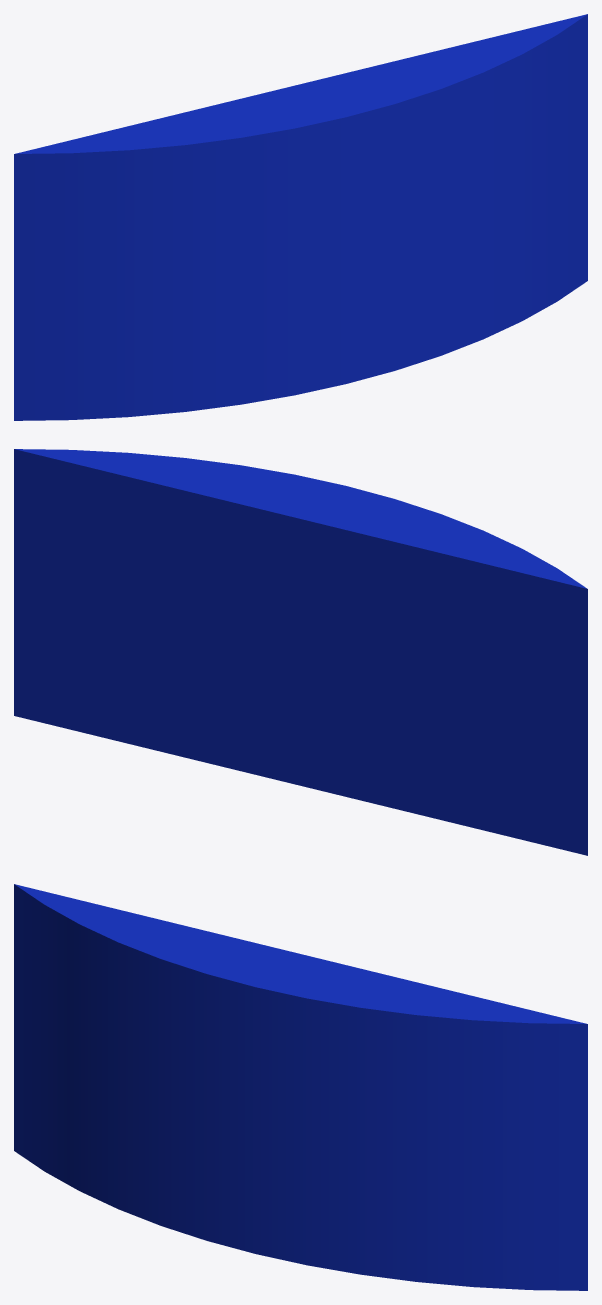
The model's file is front_cover.min.dae.
The picture shows the model from 3 angles, top to bottom: view 1: azimuth 30°, elevation 25°; view 2: azimuth 150°, elevation 25°; view 3: azimuth 330°, elevation 25°; orthographic projection.
Visible parts, largest first — view 1: skp3219; view 2: skp3219; view 3: skp3219.
Boxes of the visible parts, box(x1,y1,x2,y2) form: skp3219: box(14, 14, 587, 420); skp3219: box(14, 449, 587, 855); skp3219: box(14, 884, 587, 1290).
Size of the model in its own units: 23.04 by 3.15 by 10.24.
1 material, 1 textured.
